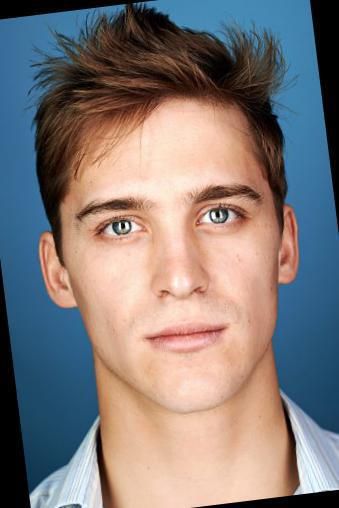Sober: (65, 100, 274, 399)
